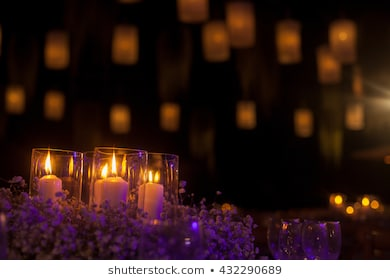Fire: (43, 154, 53, 175), (111, 152, 118, 178), (99, 163, 108, 179), (147, 169, 154, 183)
